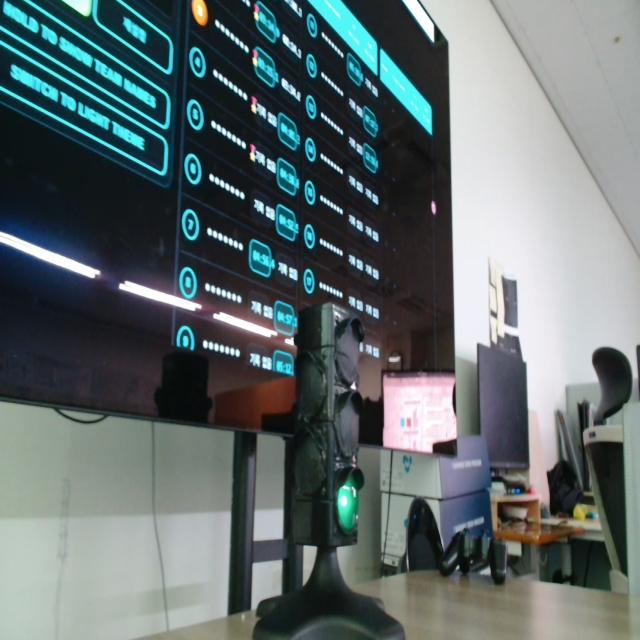green_light: (337, 477, 358, 533)
